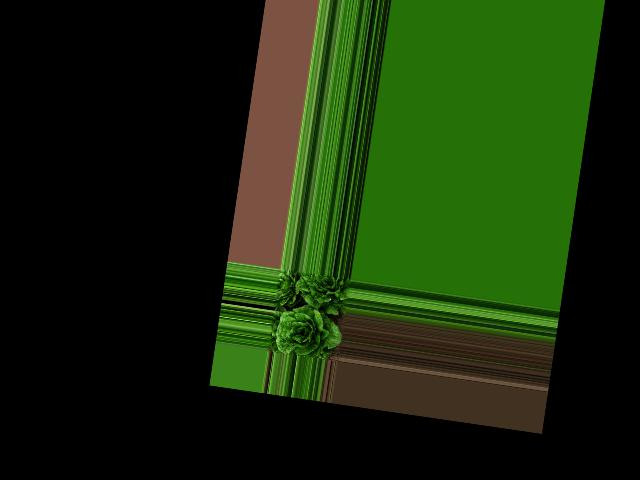lettuce: (292, 270, 349, 311)
